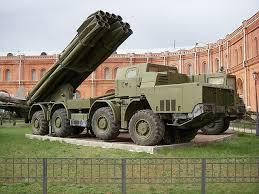MIL_SAM_TEL: (21, 9, 243, 146)
